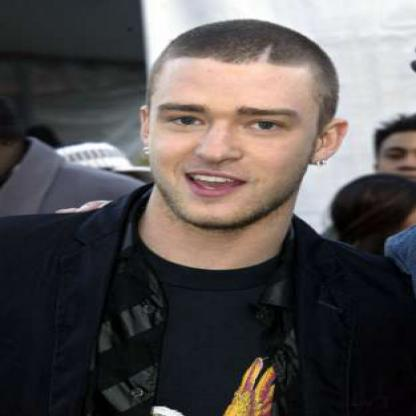face: (143, 22, 326, 232)
